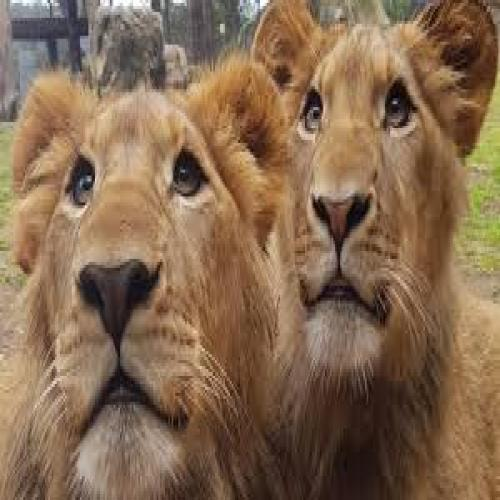lion-endangered: (0, 53, 283, 500), (251, 0, 500, 497)
